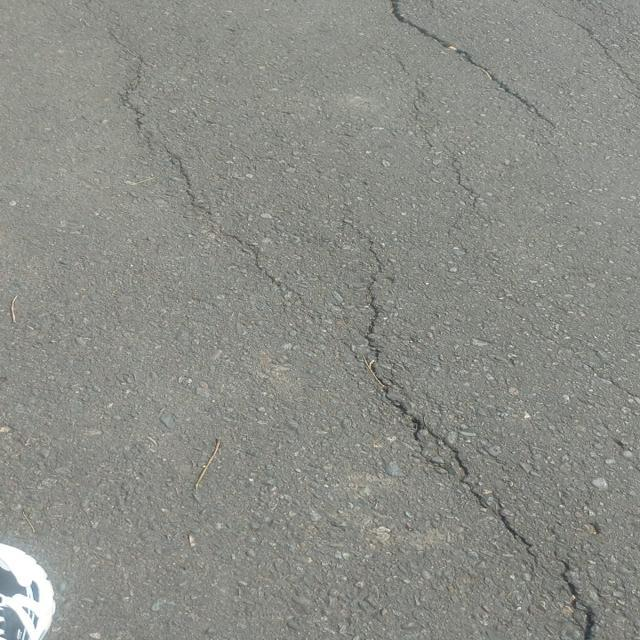Memanjang: (353, 226, 628, 640), (364, 0, 579, 143)
